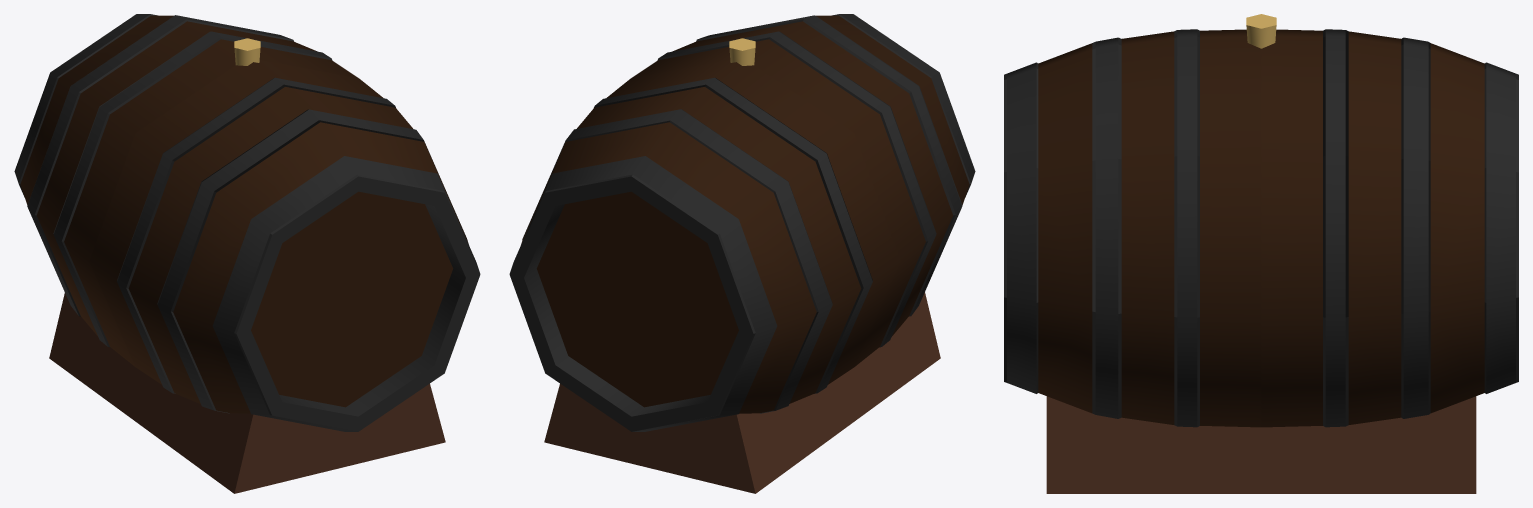
The model's file is BarrelWithStand.fbx.
The picture shows the model from 3 angles, left to right: view 1: azimuth 30°, elevation 25°; view 2: azimuth 150°, elevation 25°; view 3: azimuth 270°, elevation 25°; orthographic projection. The views are drawn at different scales.
Visible parts, largest first — view 1: BarrelWithStand:Mesh; view 2: BarrelWithStand:Mesh; view 3: BarrelWithStand:Mesh.
Part boxes in pixels (left/top/right/bottom): BarrelWithStand:Mesh: left=14, top=14, right=480, bottom=493; BarrelWithStand:Mesh: left=509, top=14, right=975, bottom=493; BarrelWithStand:Mesh: left=1004, top=14, right=1518, bottom=493.
Size of the model in its own units: 47.35 by 50.87 by 57.52.
